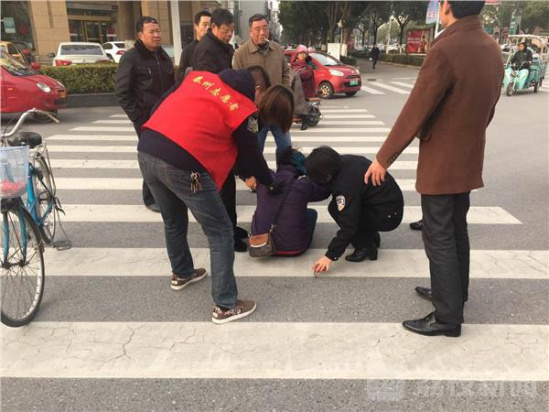fall: (237, 152, 331, 264)
